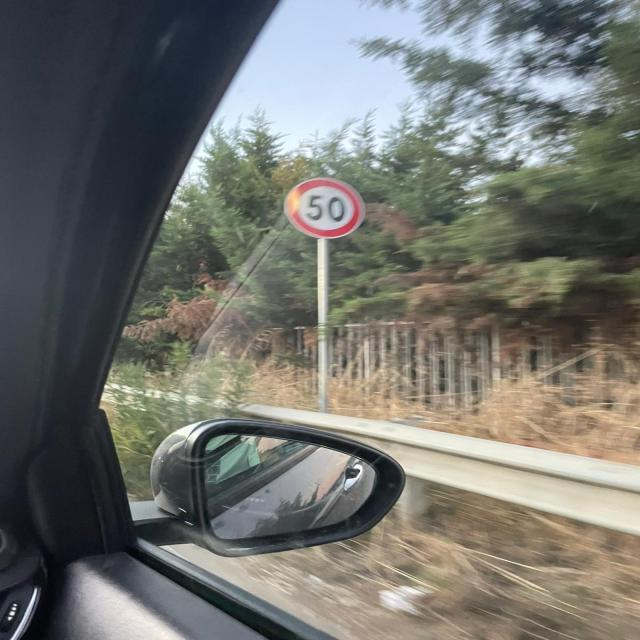forb_speed_over_50: (281, 175, 373, 242)
